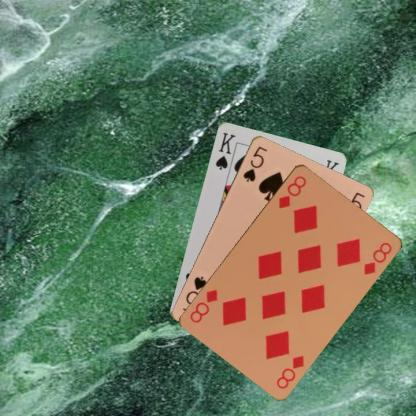5s: (240, 143, 268, 183)
8d: (273, 352, 306, 390), (276, 172, 308, 209)
Ks: (213, 129, 237, 171)
